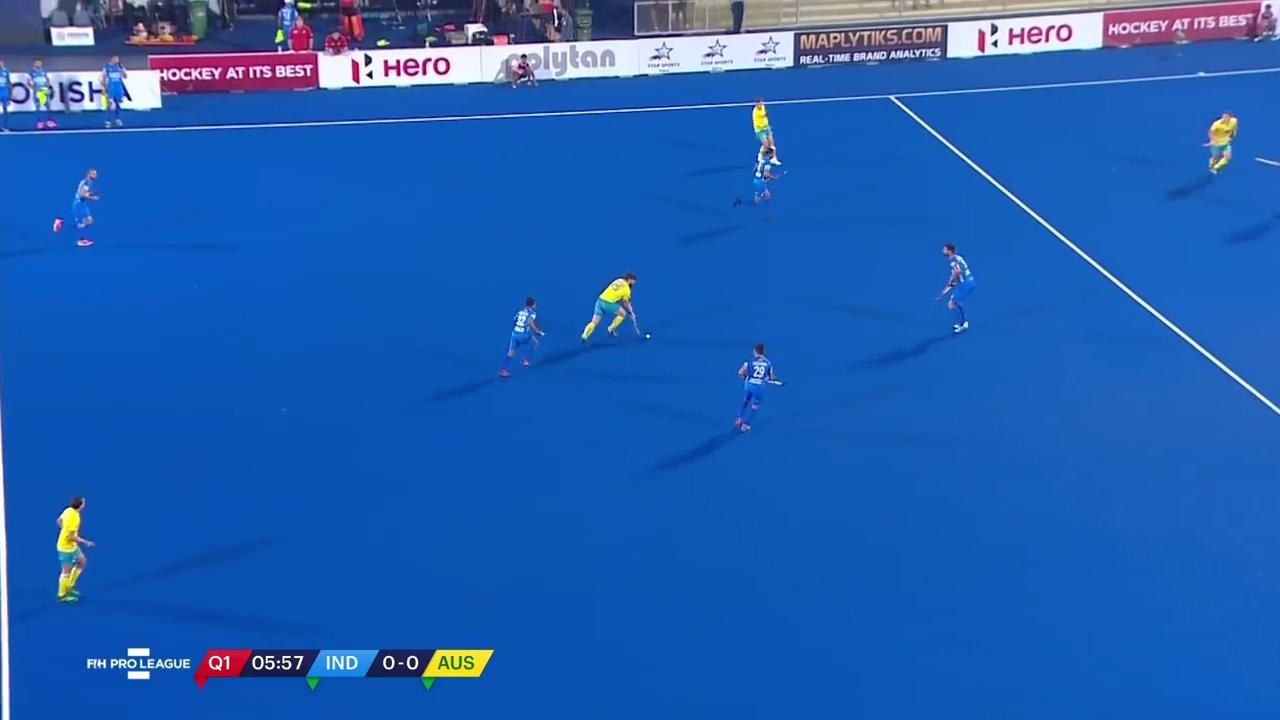ball: (640, 329, 653, 341)
